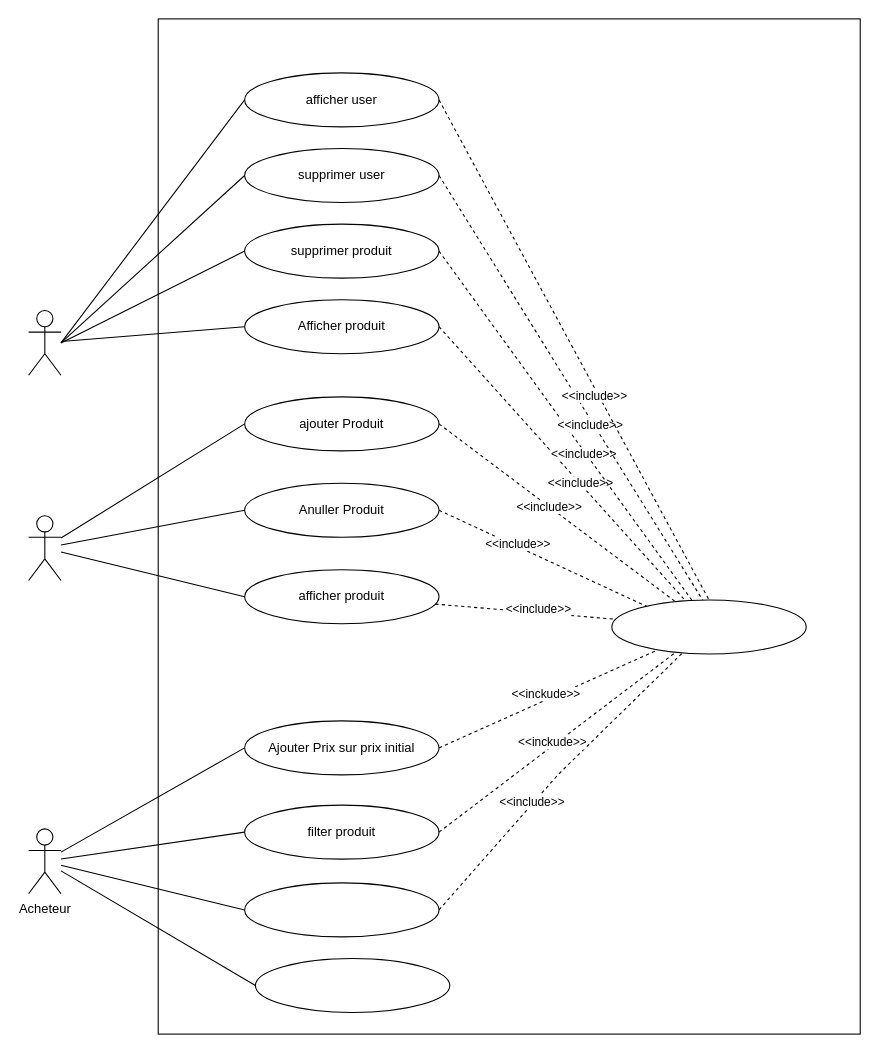
This 879x1053 diagram has some shape labels left out. Here are the shapes that lost their labels. From the top down, the box of each, then its label:
(28, 309, 61, 375): Admin
(28, 515, 61, 580): Vendeur
(611, 599, 806, 654): S'authentifier
(244, 882, 439, 937): Contacter le vendeur
(254, 957, 450, 1013): naviguer
